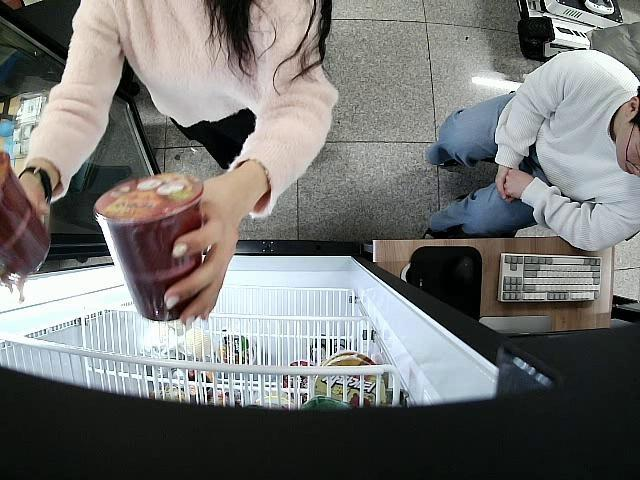06_nuguri_S: (94, 172, 204, 322), (0, 146, 53, 279)
